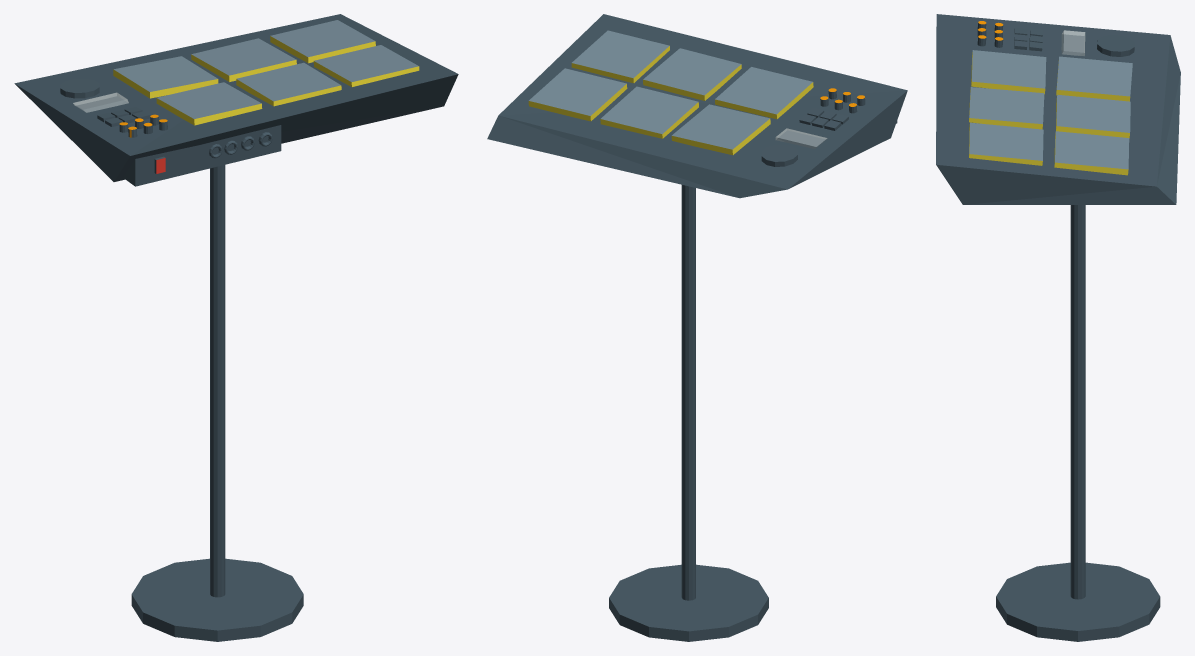
The model's file is Electronic Drum Machine.glb.
The picture shows the model from 3 angles, left to right: view 1: azimuth 30°, elevation 25°; view 2: azimuth 150°, elevation 25°; view 3: azimuth 270°, elevation 25°; orthographic projection. The views are drawn at different scales.
Visible parts, largest first — view 1: group2045103780, group1912839726, group681427398, group273564800, group727357565, group211396980, group1441970887, group1149581205, group1132015495, group1335247664, group1133021644, group14101012; view 2: group2045103780, group1912839726, group681427398, group1149581205, group1441970887, group1132015495, group727357565, group1335247664, group211396980, group1133021644, group14101012; view 3: group2045103780, group1912839726, group681427398, group211396980, group1149581205, group1441970887, group1132015495, group727357565, group1335247664, group1133021644, group14101012.
Boxes of the visible parts, x1,y1,x2,y2 form: group2045103780: (14,14,458,181); group1912839726: (131,558,303,641); group681427398: (210,165,225,597); group273564800: (123,125,281,186); group727357565: (236,62,341,106); group211396980: (113,56,218,98); group1441970887: (156,82,262,125); group1149581205: (270,20,375,63); group1132015495: (191,38,296,81); group1335247664: (313,45,419,86); group1133021644: (60,78,99,98); group14101012: (73,92,128,112); group2045103780: (487,14,907,198); group1912839726: (609,564,768,641); group681427398: (681,185,695,600); group1149581205: (528,68,627,121); group1441970887: (715,67,813,119); group1132015495: (600,86,698,138); group727357565: (643,48,741,100); group1335247664: (571,30,669,83); group211396980: (671,104,770,155); group1133021644: (761,144,797,166); group14101012: (775,128,827,148); group2045103780: (936,14,1180,204); group1912839726: (996,562,1160,641); group681427398: (1070,205,1085,599); group211396980: (1056,56,1132,101); group1149581205: (1054,131,1129,175); group1441970887: (971,50,1046,94); group1132015495: (1056,94,1130,138); group727357565: (969,87,1044,129); group1335247664: (969,122,1043,165); group1133021644: (1097,35,1134,56); group14101012: (1061,30,1085,55).
Size of the model in its own units: 1.71 by 2.72 by 1.16.
